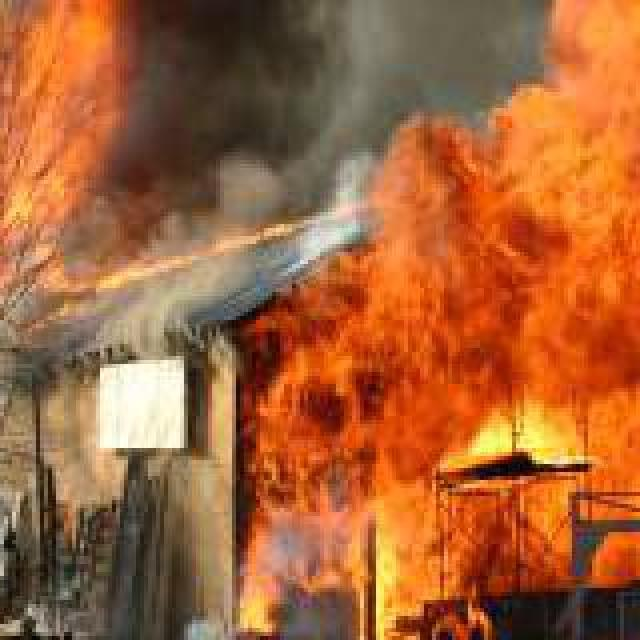smoke: (124, 0, 368, 216), (244, 0, 544, 116), (92, 280, 232, 360), (180, 600, 372, 640)
